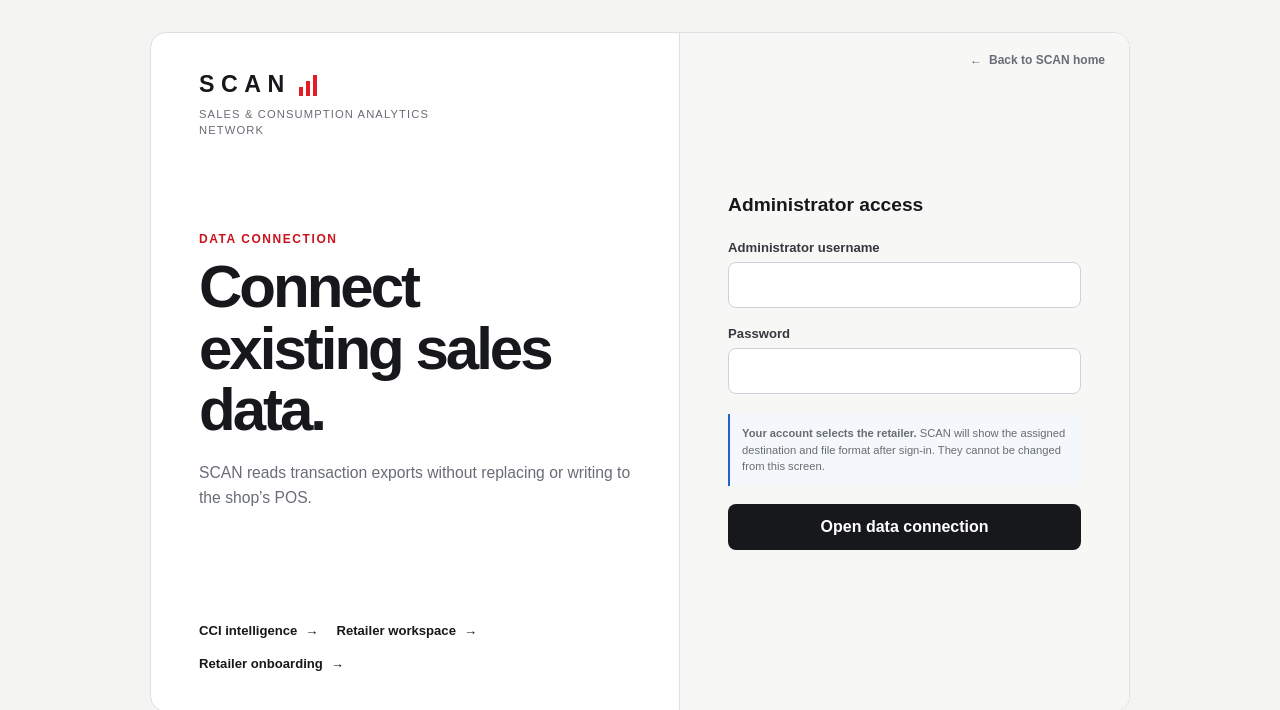
DataConnection › maps an unresolved source product through the existing catalog endpoint
Type "shop-admin" into the field labelled "Administrator username". click: (905, 285)
box: top-left (728, 262), bottom-right (1081, 308)
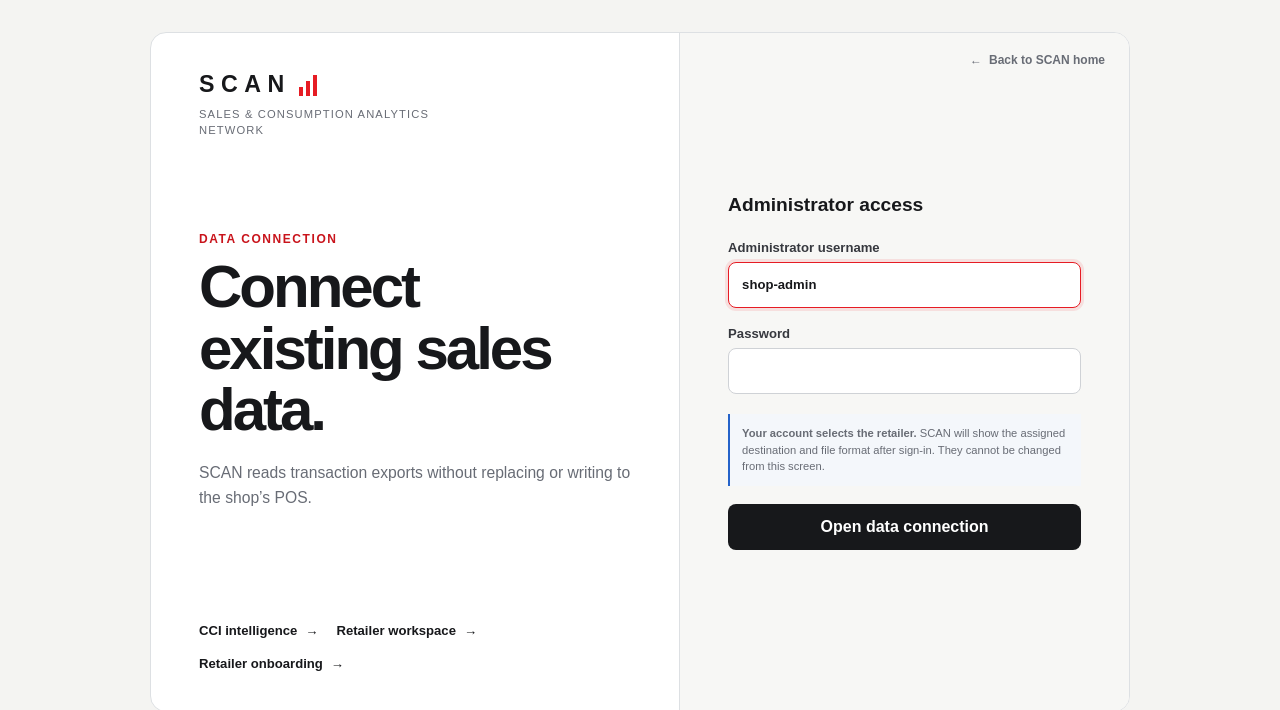
Type "admin-secret" into the password field labelled "Password". click: (905, 371)
box: top-left (728, 348), bottom-right (1081, 394)
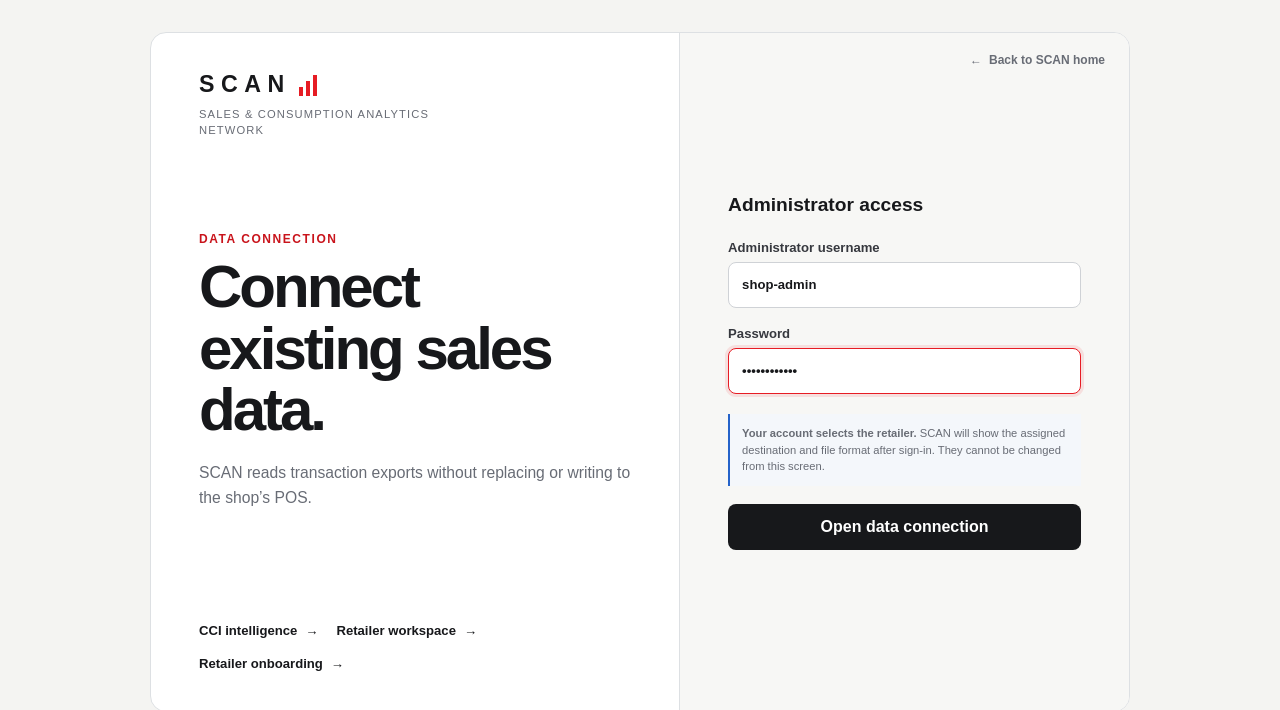
Click the button "Open data connection". click: (905, 527)
box: top-left (728, 504), bottom-right (1081, 550)
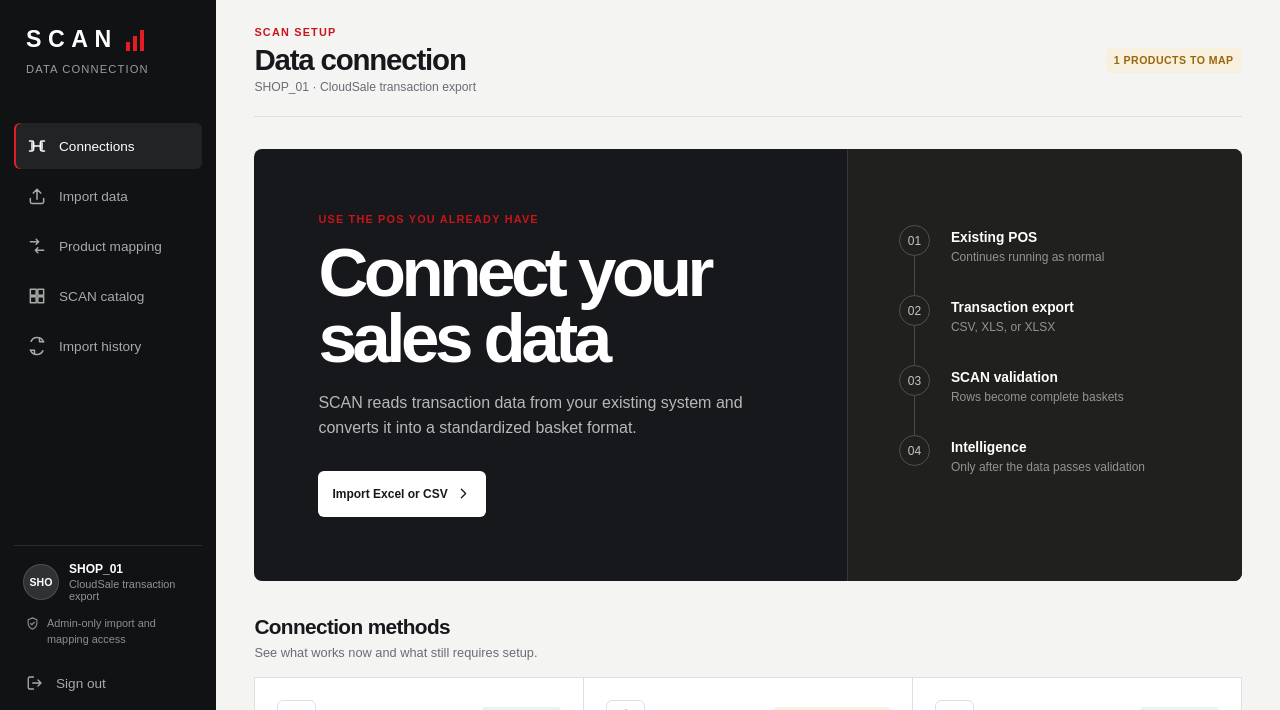
expect the heading "Connect your sales data" is shown: met, box top-left (318, 233), bottom-right (710, 377)
Click the button "Product mapping". click: (108, 246)
box: top-left (14, 223), bottom-right (202, 269)
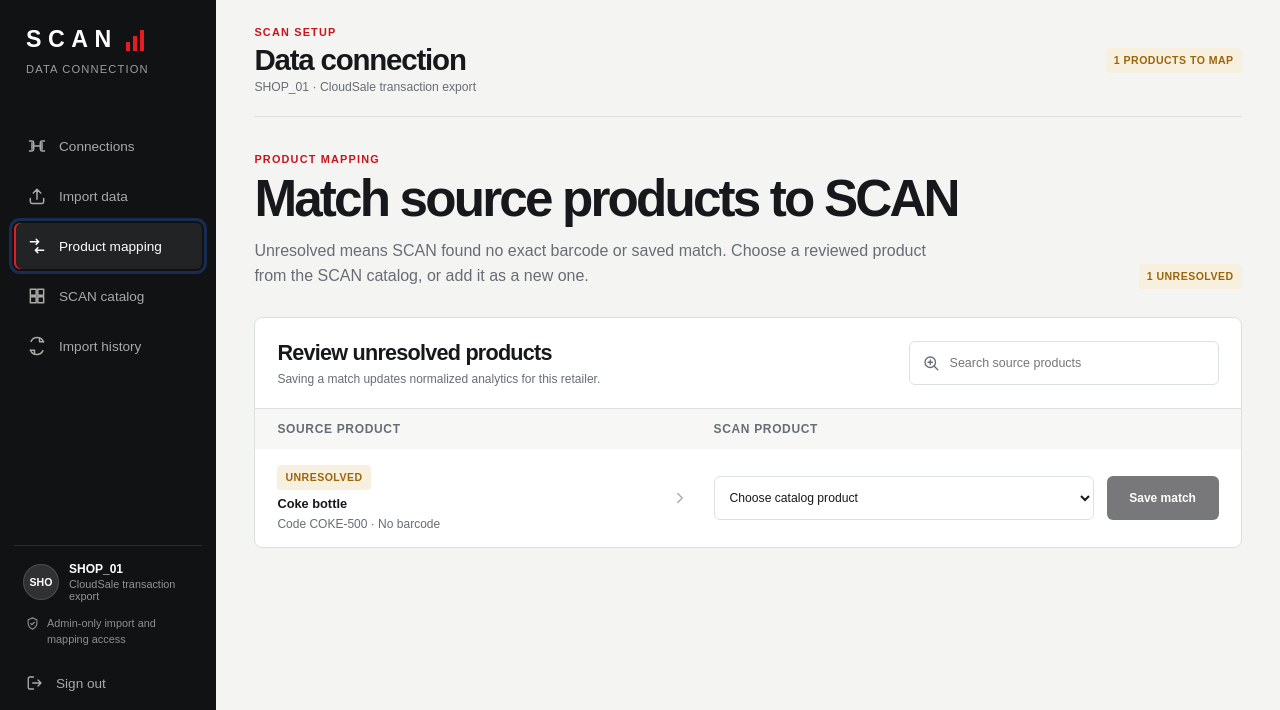
expect the heading "Match source products to SCAN" is shown: met, box top-left (254, 173), bottom-right (958, 226)
Select "Coca-Cola 500ml · Beverages" in the dropdown named "SCAN product for Coke bottle". click: (904, 498)
box: top-left (714, 476), bottom-right (1094, 520)
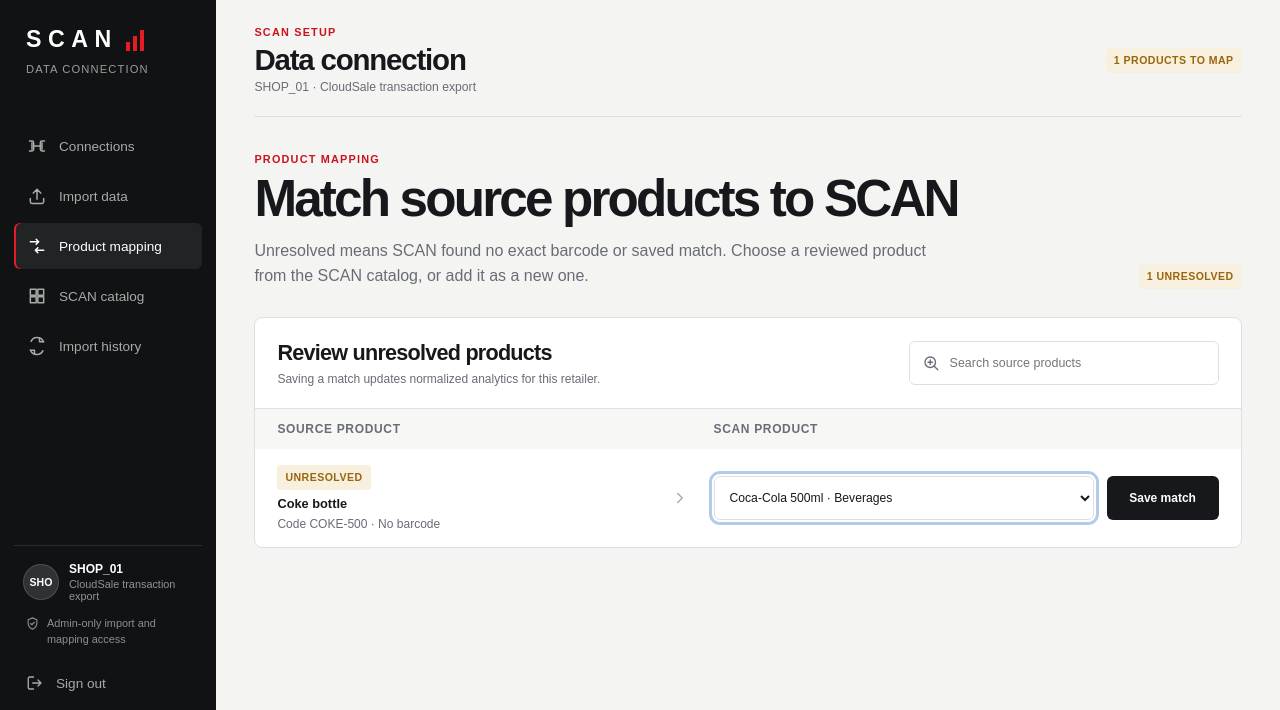
Click the button "Save match". click: (1163, 498)
box: top-left (1107, 476), bottom-right (1219, 520)
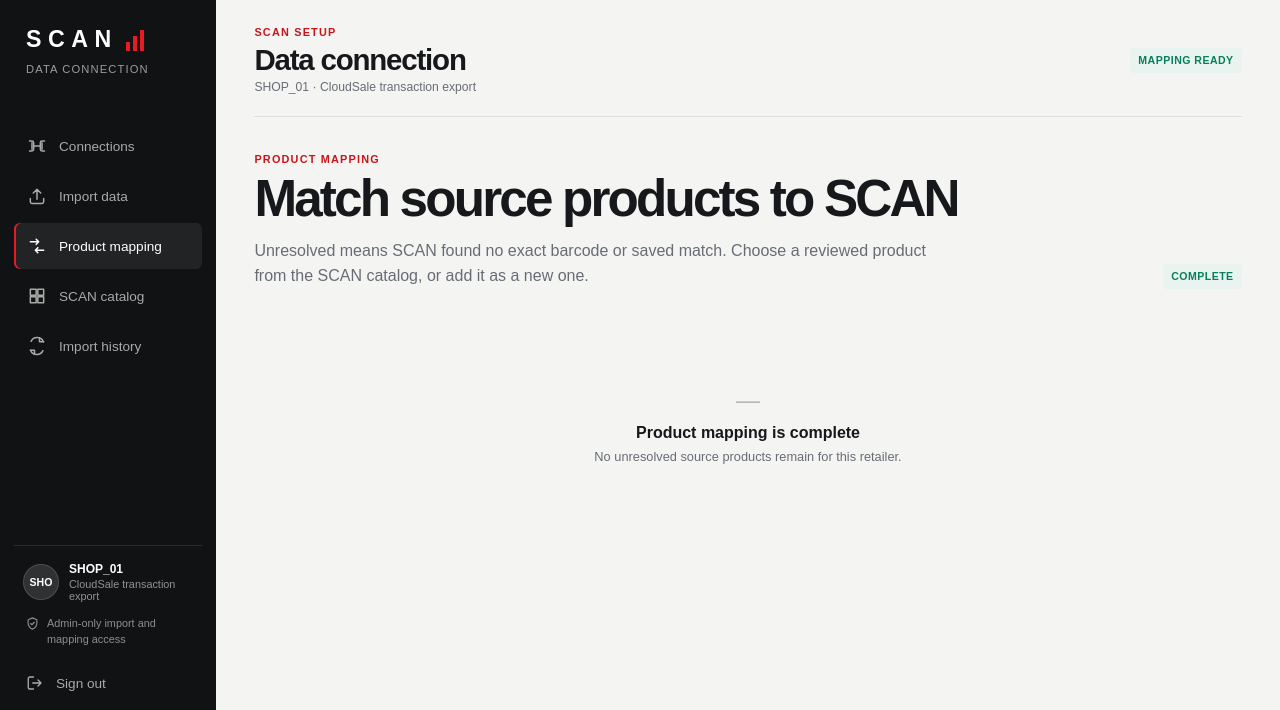
expect the heading "Product mapping is complete" is shown: met, box top-left (636, 424), bottom-right (860, 442)
